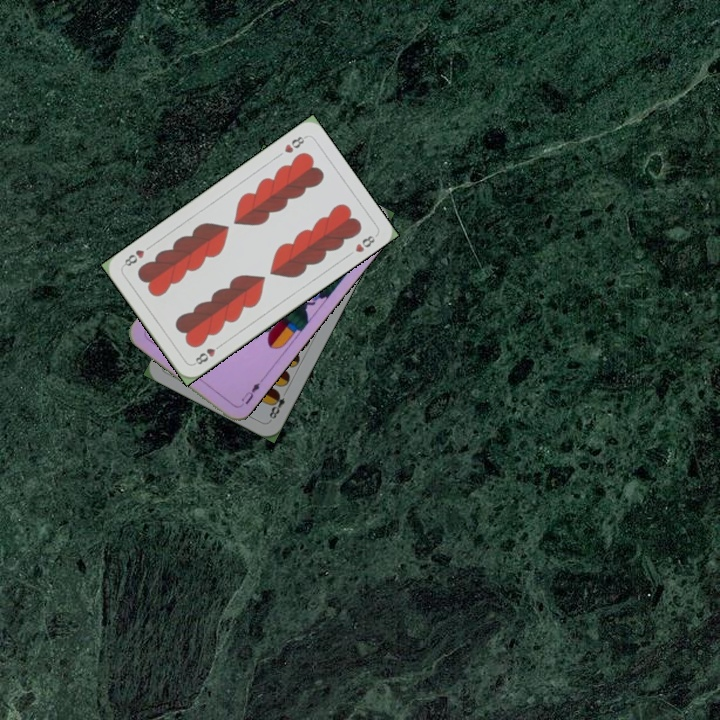E8: (265, 388, 288, 423)
EU: (234, 375, 266, 409)
H8: (189, 339, 225, 367), (280, 132, 309, 156)
